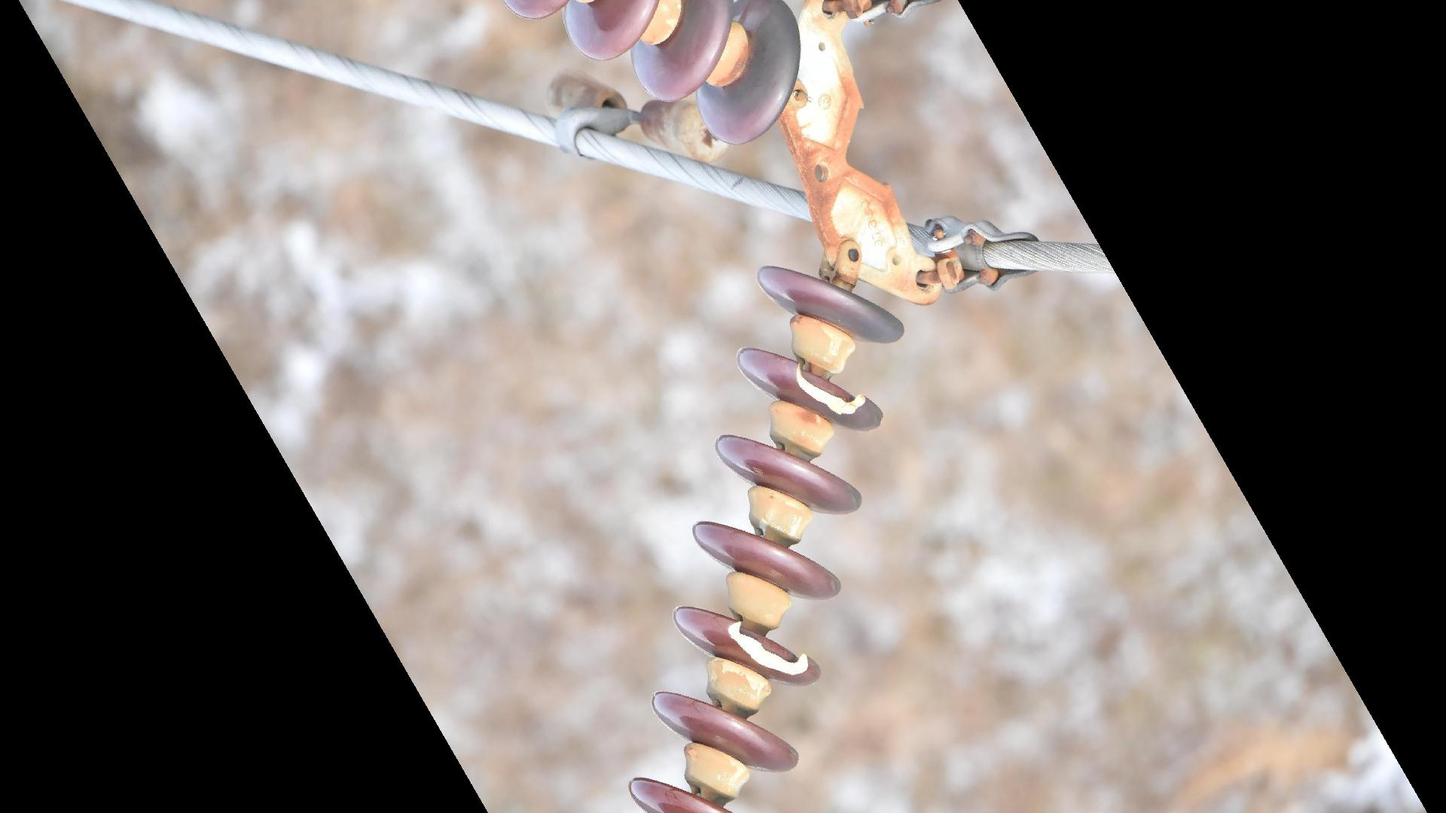insulator: (624, 262, 911, 813), (505, 1, 807, 154)
insulator_breakage: (715, 613, 819, 687), (779, 355, 879, 429)
